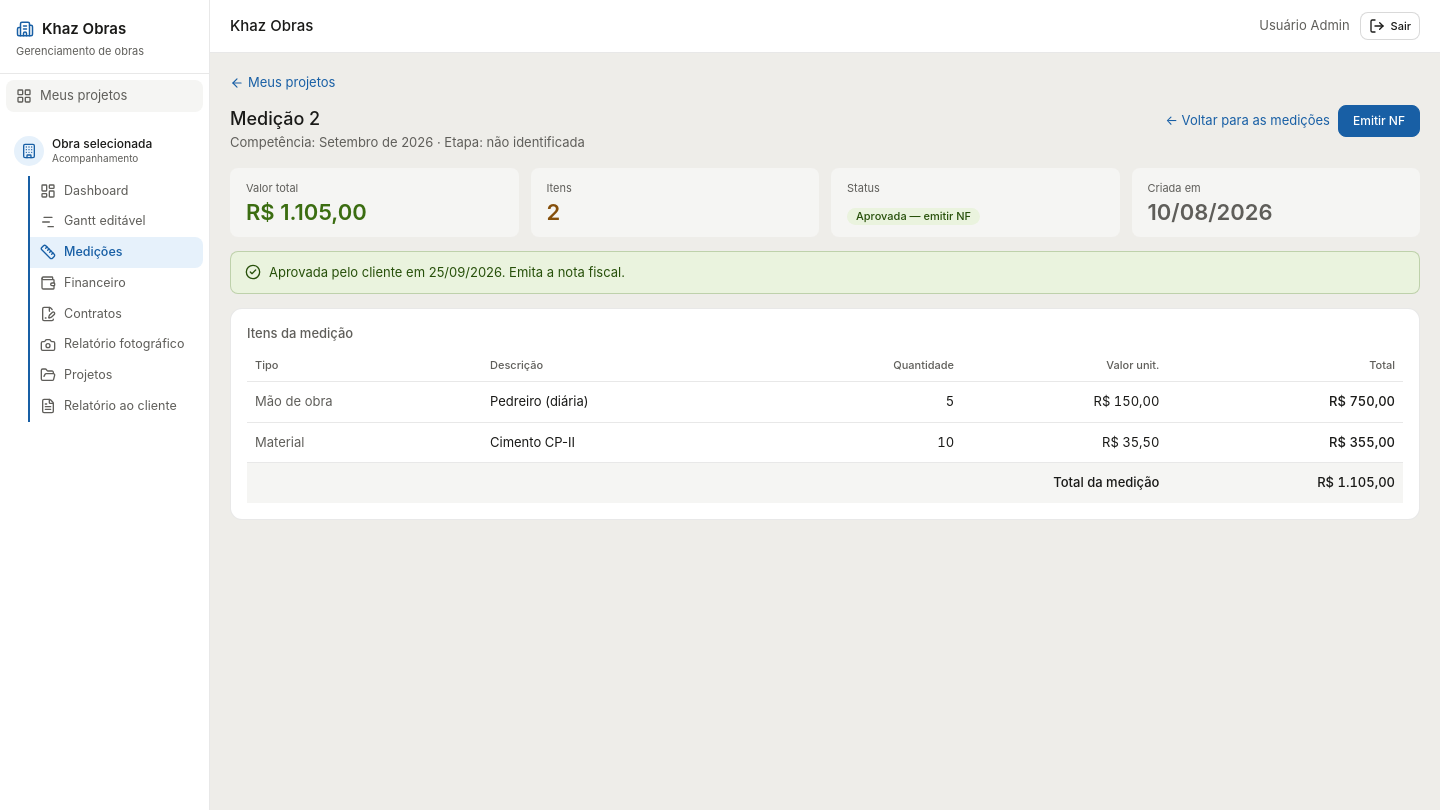
Test case: Medição (admin) - emitir NF › Cancelar fecha sem enviar
This screenshot has width=1440, height=810.
Click the button "Emitir NF" at (1379,120), box [1338, 104, 1420, 136]
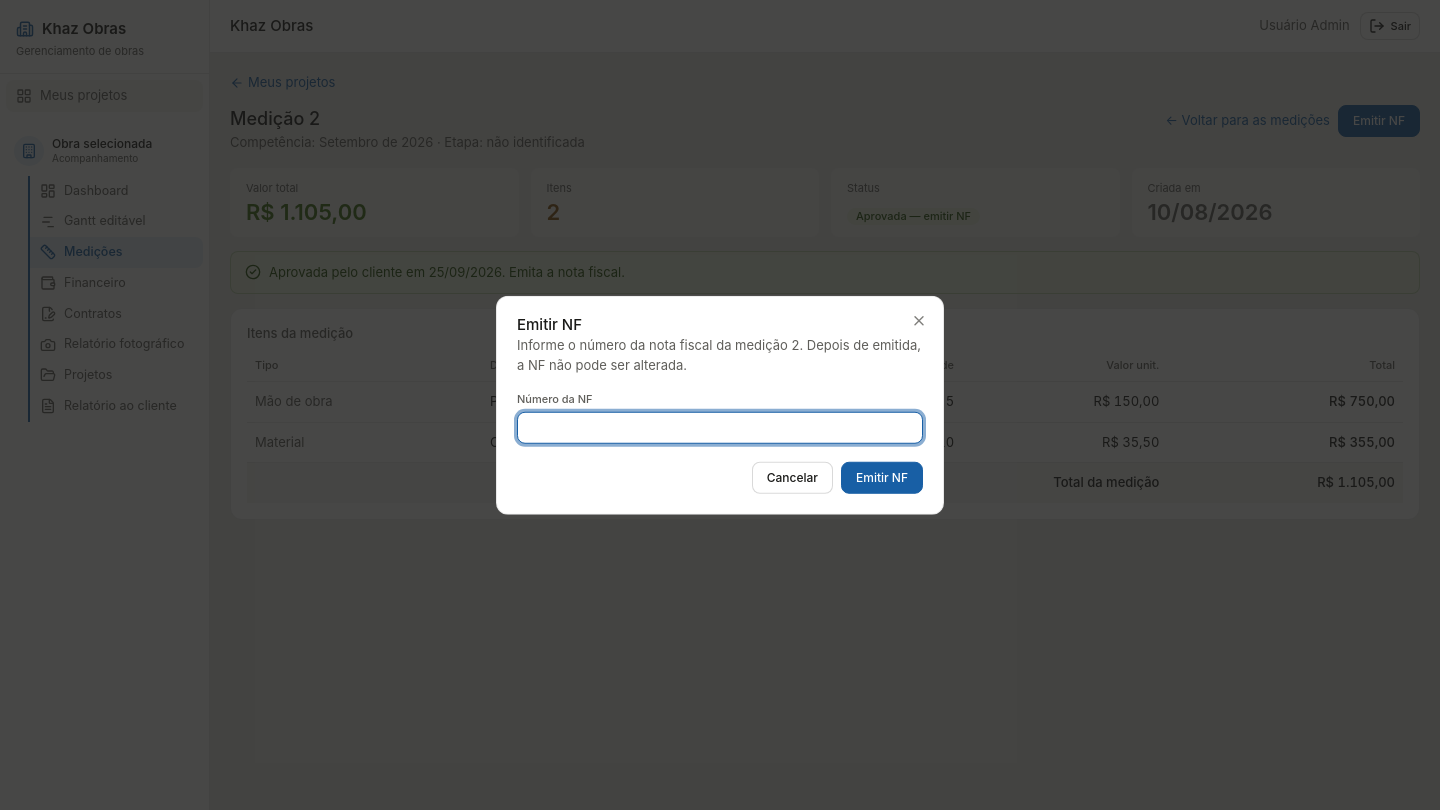
Click the button "Cancelar" at (792,477), box [752, 461, 833, 493]
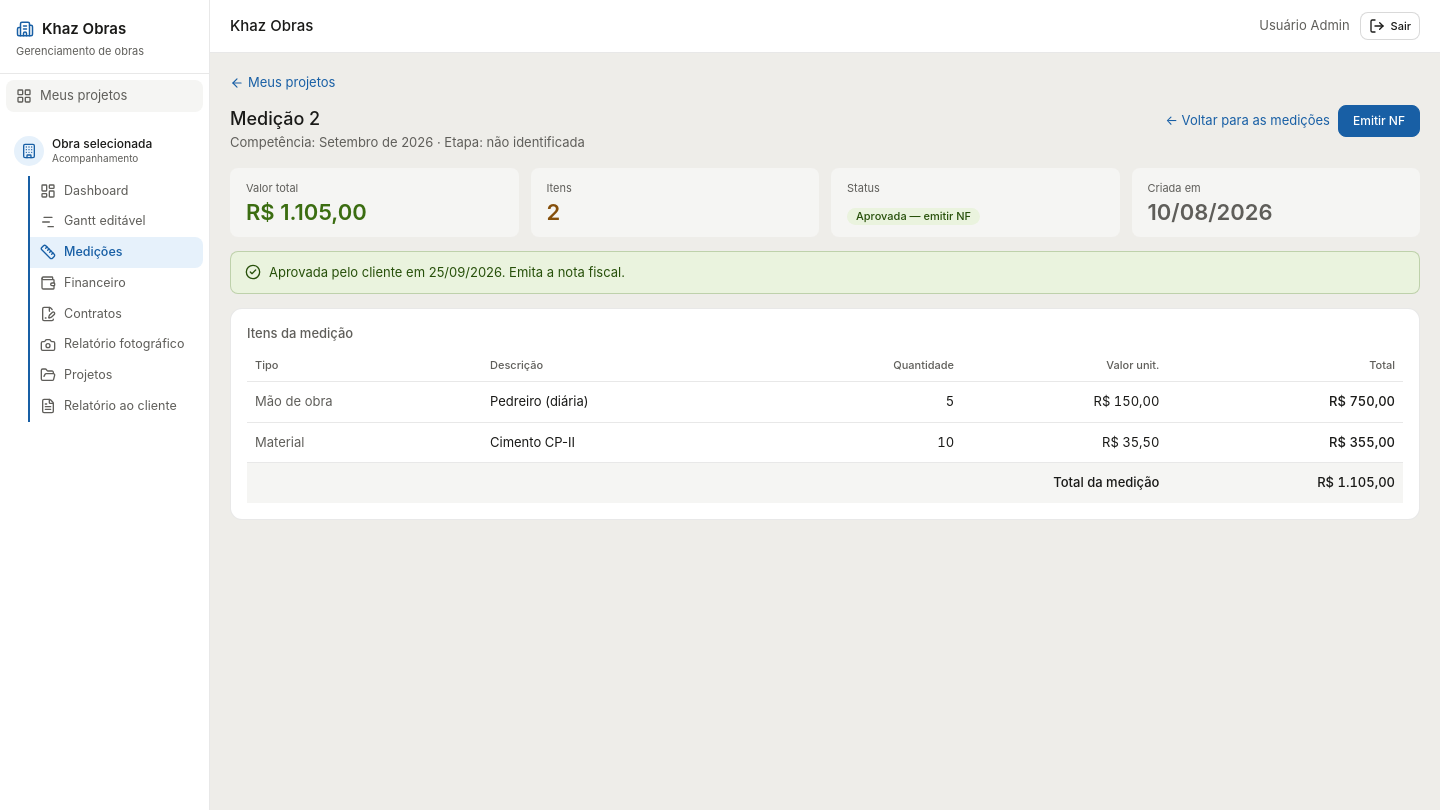
Now the dialog is gone
